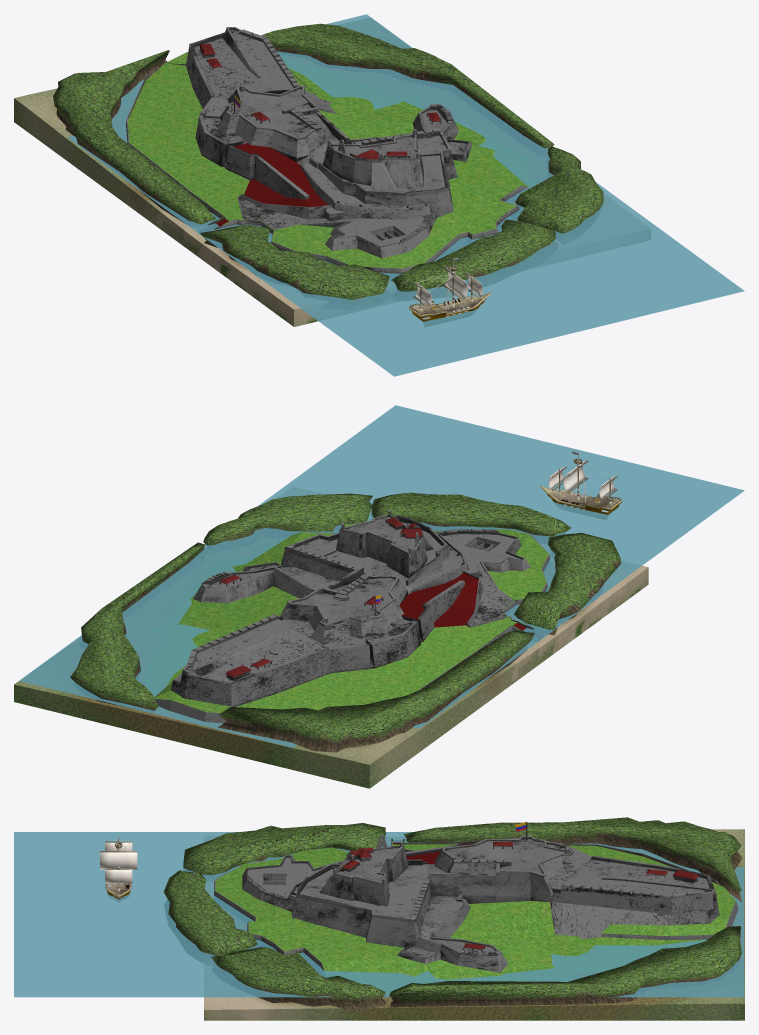
The model's file is castillo-san-felipe.glb.
The picture shows the model from 3 angles, top to bottom: view 1: azimuth 30°, elevation 25°; view 2: azimuth 150°, elevation 25°; view 3: azimuth 270°, elevation 25°; orthographic projection. The views are drawn at different scales.
Parts seen in each view (by area): view 1: Agua Variant, Manglar, Cube.001, Cube.011, Base, Cube.009, Superior, Cube.003, Cube.002, SM_Galleon, Cube.005; view 2: Agua Variant, Manglar, Cube.011, Base, Cube.001, Cube.009, Cube.003, Superior, SM_Galleon, Cube.002, Cube.005; view 3: Agua Variant, Manglar, Cube.001, Cube.011, Base, Cube.009, Cube.003, Superior, Cube.002, SM_Galleon, Cube.005.
Part boxes in pixels (box(x1,y1,x2,y2)): Agua Variant: box(67, 14, 744, 376); Manglar: box(53, 23, 603, 309); Cube.001: box(126, 52, 534, 277); Cube.011: box(186, 27, 436, 258); Base: box(14, 19, 650, 326); Cube.009: box(299, 104, 472, 220); Superior: box(323, 133, 423, 190); Cube.003: box(217, 85, 351, 162); Cube.002: box(230, 88, 339, 164); SM_Galleon: box(409, 258, 491, 321); Cube.005: box(317, 155, 445, 191); Agua Variant: box(19, 405, 744, 747); Manglar: box(70, 492, 621, 752); Cube.011: box(171, 529, 530, 706); Base: box(14, 487, 648, 788); Cube.001: box(145, 524, 550, 723); Cube.009: box(193, 515, 479, 603); Cube.003: box(280, 566, 407, 644); Superior: box(336, 514, 433, 578); SM_Galleon: box(540, 451, 622, 516); Cube.002: box(292, 577, 411, 623); Cube.005: box(325, 522, 441, 584); Agua Variant: box(14, 832, 744, 997); Manglar: box(163, 817, 742, 1010); Cube.001: box(214, 837, 738, 987); Cube.011: box(242, 838, 719, 939); Base: box(204, 829, 744, 1020); Cube.009: box(286, 859, 508, 972); Cube.003: box(429, 835, 583, 903); Superior: box(319, 845, 408, 905); Cube.002: box(426, 822, 564, 879); SM_Galleon: box(100, 836, 137, 899); Cube.005: box(299, 865, 422, 911).
Bounding box in the file's own units: 0.4958 × 0.1123 × 0.9.
Materials: 31 (11 with a texture image).
